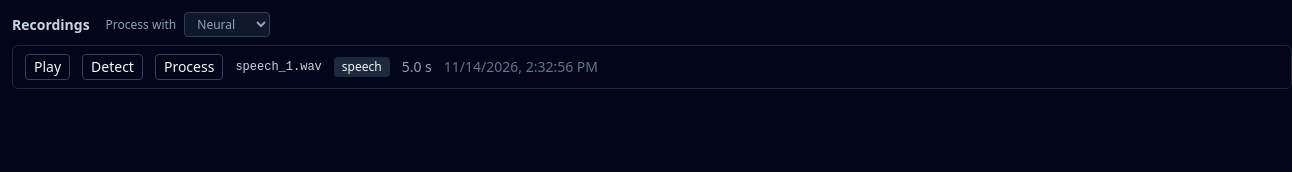
Test case: the neural output gate (step 07b) › applies to neural processing runs too, which show it
Click the button with aria-label "Process speech_1.wav".
click(189, 67)  # box [155,54,223,80]
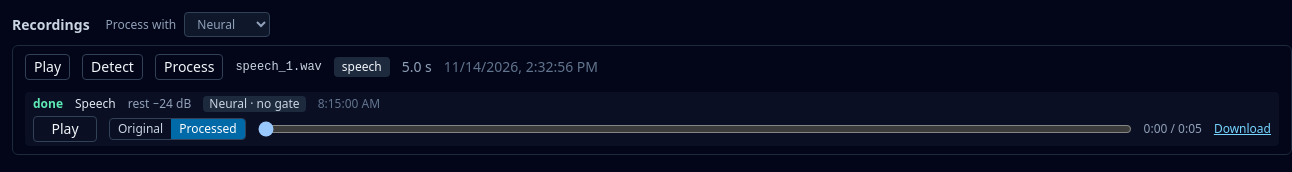
Check: the list item with test id "run-run_g" shows "Neural · no gate", box [25,92,1279,146]
